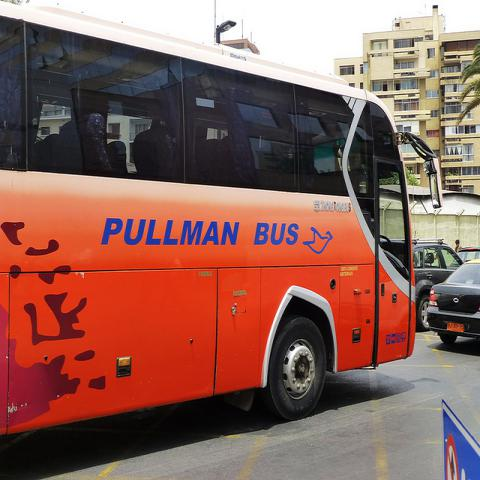bus: (0, 1, 420, 439)
car: (427, 257, 479, 347), (412, 238, 461, 330)
